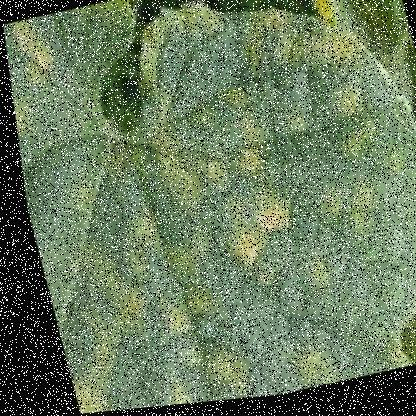DownyMildew: (134, 0, 415, 405), (102, 108, 392, 408), (17, 139, 327, 415), (2, 9, 152, 415)
